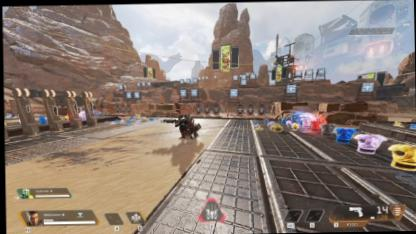Target: (176, 112, 200, 138)
